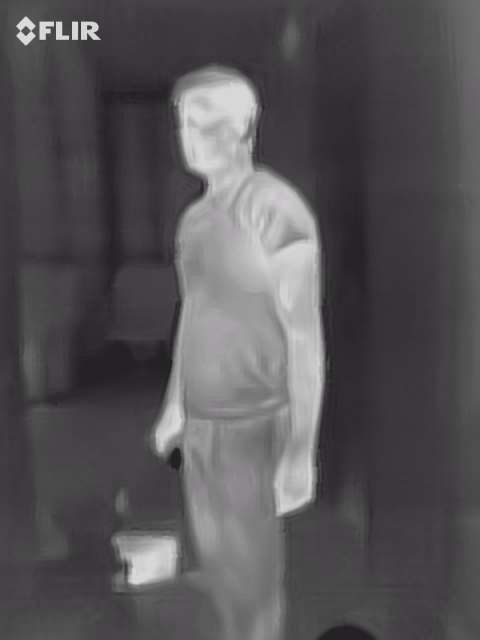head: (173, 65, 261, 179)
